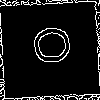O: (24, 24, 71, 66)
